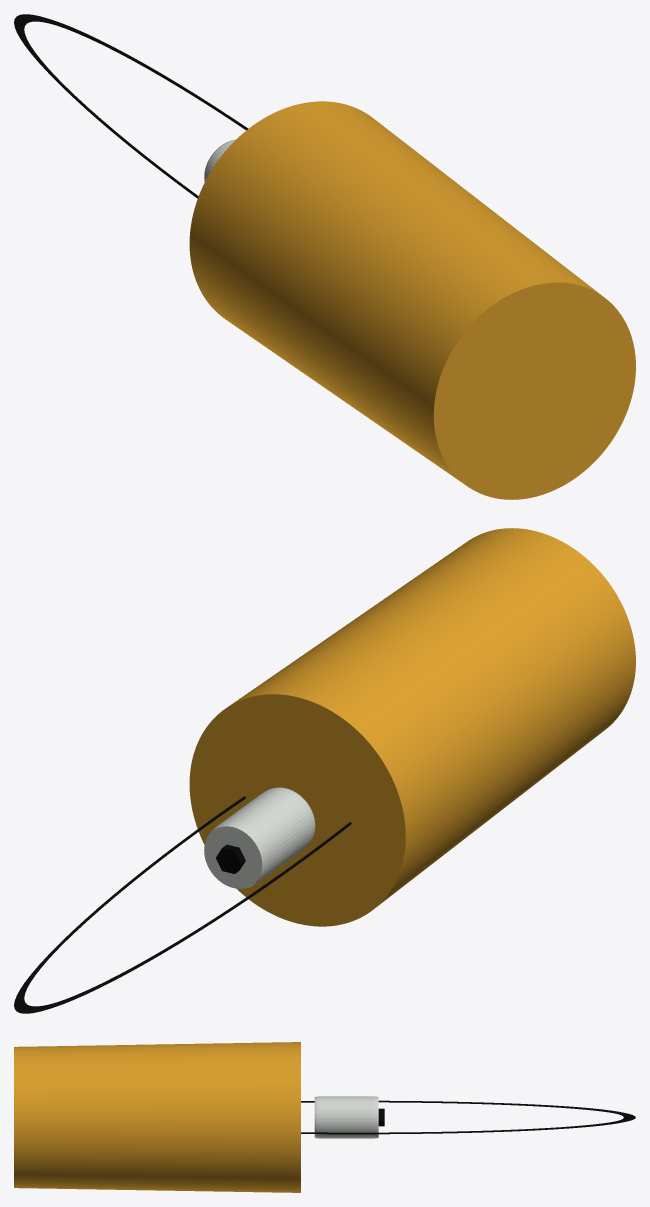
Rendered from calibrated_button_insert.obj.
The picture shows the model from 3 angles, top to bottom: view 1: azimuth 30°, elevation 25°; view 2: azimuth 150°, elevation 25°; view 3: azimuth 270°, elevation 25°; orthographic projection. The views are drawn at different scales.
Parts seen in each view (by area): view 1: round_button_insert_button, round_button_insert_chipbreaker_ring; view 2: round_button_insert_button, round_button_insert_screw_head, round_button_insert_chipbreaker_ring; view 3: round_button_insert_button, round_button_insert_screw_head, round_button_insert_chipbreaker_ring.
Boxes of the visible parts, box(x1,y1,x2,y2) form: round_button_insert_button: box(189, 101, 635, 499); round_button_insert_chipbreaker_ring: box(14, 14, 248, 198); round_button_insert_button: box(189, 528, 635, 926); round_button_insert_screw_head: box(204, 787, 315, 888); round_button_insert_chipbreaker_ring: box(14, 796, 351, 1013); round_button_insert_button: box(14, 1042, 300, 1192); round_button_insert_screw_head: box(314, 1096, 378, 1138); round_button_insert_chipbreaker_ring: box(301, 1100, 635, 1134).
Size of the model in its own units: 2 by 2 by 8.24.
